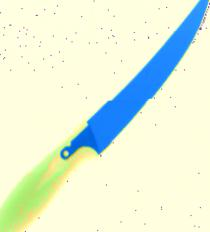Knife: (2, 1, 209, 232)
